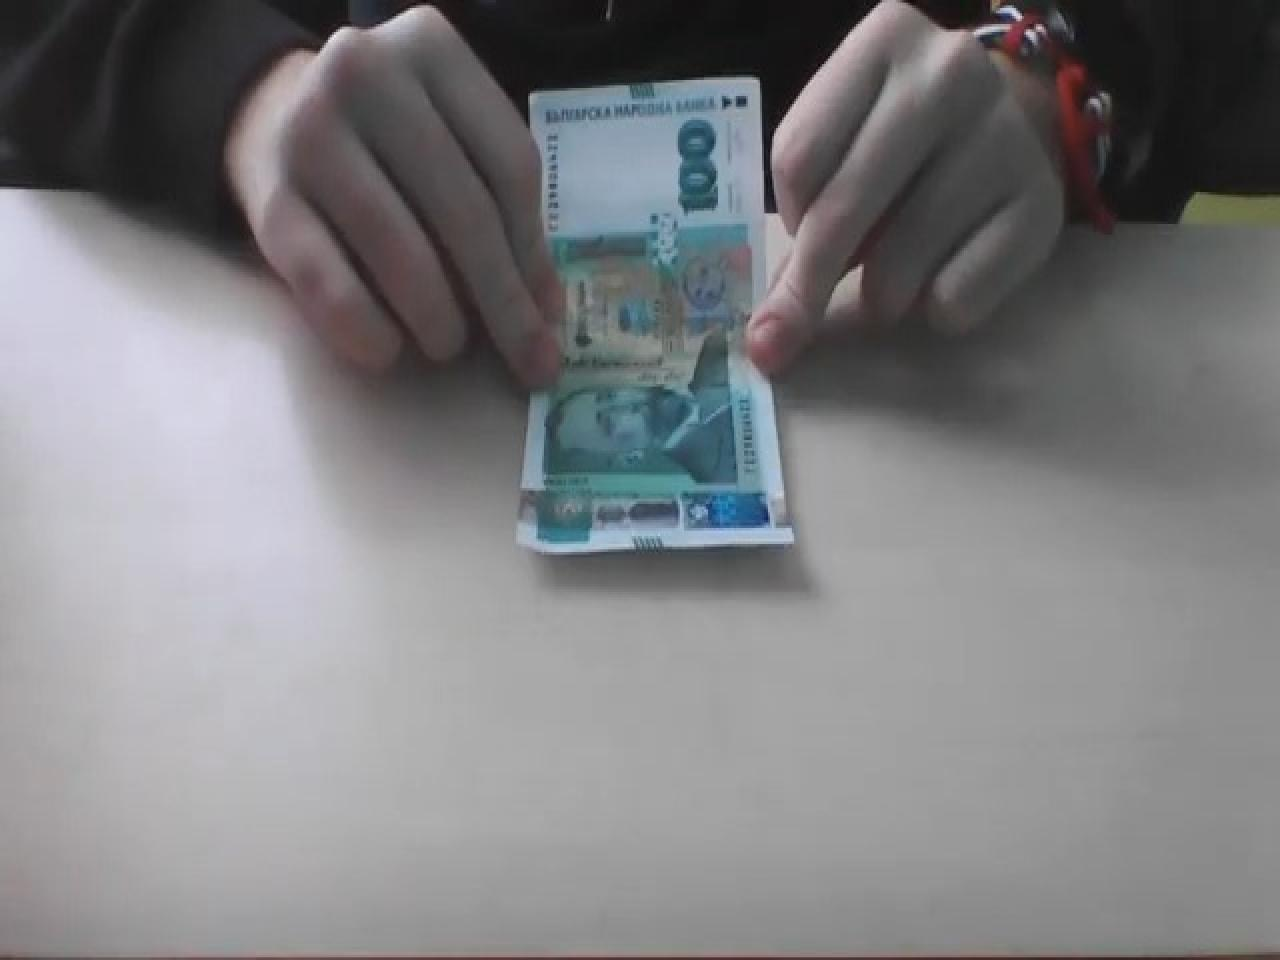100leva: (514, 75, 796, 560)
